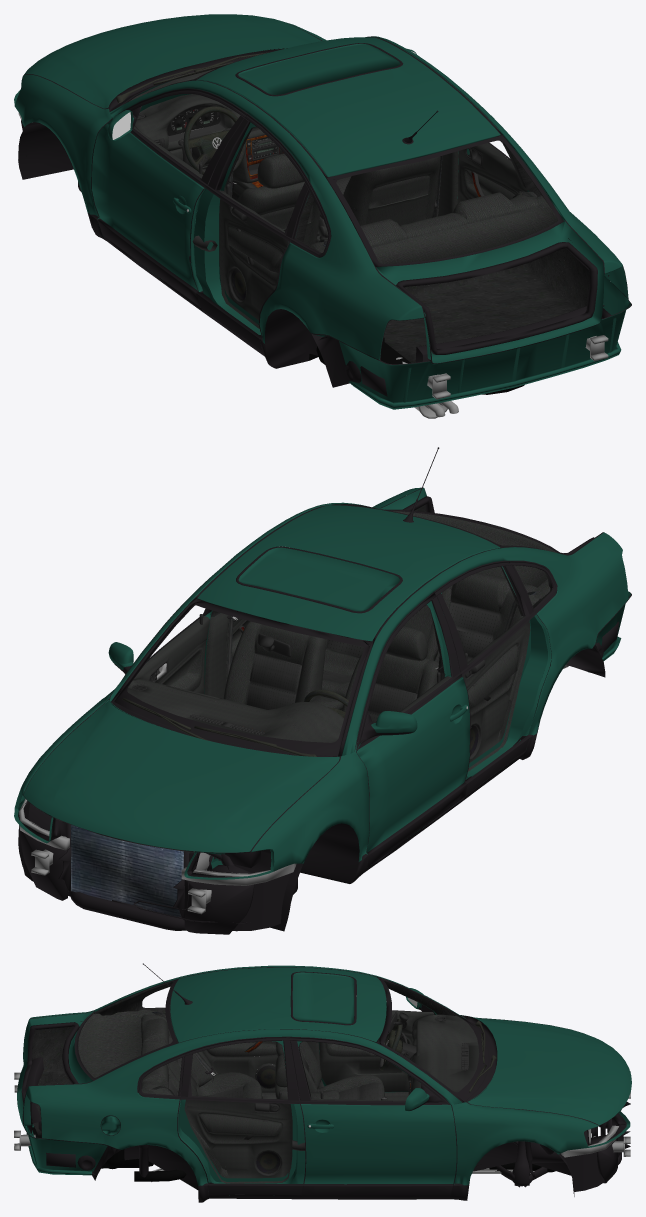
Rendered from passat-b5-cockpit.glb.
The picture shows the model from 3 angles, top to bottom: view 1: azimuth 30°, elevation 25°; view 2: azimuth 150°, elevation 25°; view 3: azimuth 270°, elevation 25°; orthographic projection. The views are drawn at different scales.
Visible parts, largest first — view 1: BodyMesh_primary_0, BodyMesh_chassis.2_0, EngineMesh_interior.5_0, EngineMesh_interior.6_0, EngineMesh_interior.7_0, steering_wheel, EngineMesh_front_0, EngineMesh_interior.4_0, FaraFrontLeftMesh1_black_0, BodyMesh_BlackPlastic_0, BodyMesh_chassis.4_0; view 2: BodyMesh_primary_0, BodyMesh_chassis.2_0, EngineMesh_interior.5_0, EngineMesh_interior.7_0, EngineMesh_chassis.7_0, BodyMesh_BlackPlastic_0; view 3: BodyMesh_primary_0, BodyMesh_chassis.2_0, EngineMesh_interior.5_0, EngineMesh_interior.7_0, EngineMesh_interior.6_0, EngineMesh_interior.4_0, BodyMesh_chassis.4_0, EngineMesh_chassis.7_0, steering_wheel.
Boxes of the visible parts, x1,y1,x2,y2 form: BodyMesh_primary_0: (14,14,630,409); BodyMesh_chassis.2_0: (18,23,631,418); EngineMesh_interior.5_0: (227,153,557,285); EngineMesh_interior.6_0: (202,140,589,362); EngineMesh_interior.7_0: (129,69,527,328); steering_wheel: (178,106,246,174); EngineMesh_front_0: (167,106,283,162); EngineMesh_interior.4_0: (225,126,550,252); FaraFrontLeftMesh1_black_0: (167,106,217,135); BodyMesh_BlackPlastic_0: (116,52,268,103); BodyMesh_chassis.4_0: (217,117,524,394); BodyMesh_primary_0: (14,487,630,879); BodyMesh_chassis.2_0: (18,447,631,934); EngineMesh_interior.5_0: (160,511,556,741); EngineMesh_interior.7_0: (127,613,530,771); EngineMesh_chassis.7_0: (246,602,499,722); BodyMesh_BlackPlastic_0: (122,697,316,756); BodyMesh_primary_0: (17,965,631,1195); BodyMesh_chassis.2_0: (14,963,630,1202); EngineMesh_interior.5_0: (78,1010,411,1178); EngineMesh_interior.7_0: (184,1010,479,1183); EngineMesh_interior.6_0: (32,1021,277,1135); EngineMesh_interior.4_0: (94,980,460,1096); BodyMesh_chassis.4_0: (32,1126,555,1189); EngineMesh_chassis.7_0: (168,1038,383,1100); steering_wheel: (379,1019,404,1070).
Bounding box in the file's own units: 1.95 × 1.55 × 4.49.
13 materials, 7 textured.
